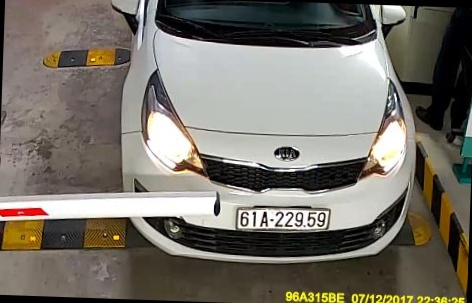plate: (236, 198, 334, 244)
